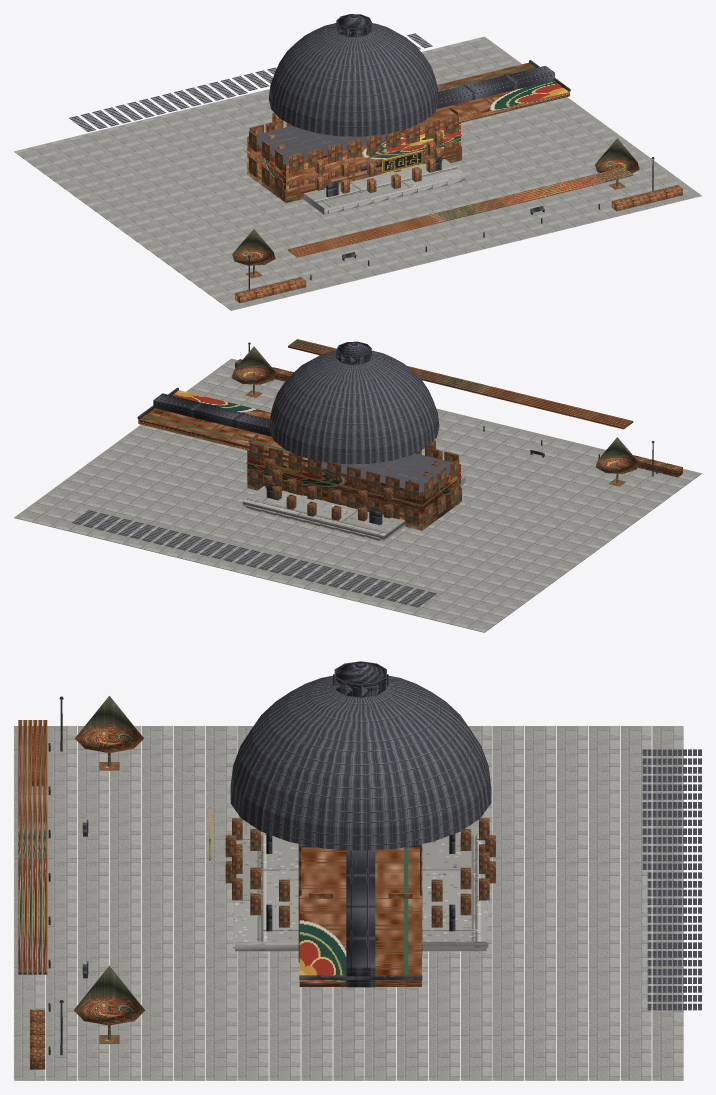
The picture shows the model from 3 angles, top to bottom: view 1: azimuth 30°, elevation 25°; view 2: azimuth 150°, elevation 25°; view 3: azimuth 270°, elevation 25°; orthographic projection. The views are drawn at different scales.
Visible parts, largest first — view 1: 11680_01_06238_001_01__plinth_ground_base, 11680_01_06238_001_03__roof_deck_structure, 11680_01_06238_001_02__mass_body_facade, 11680_01_06238_001_05__window_sash_glass, 11680_01_06238_001_06__landscape_greenery, 11680_01_06238_001_03__roof_metal_ornament, 11680_01_06238_001_05__door_hardware_iron, 11680_01_06238_001_04__sign_board; view 2: 11680_01_06238_001_01__plinth_ground_base, 11680_01_06238_001_03__roof_deck_structure, 11680_01_06238_001_02__mass_body_facade, 11680_01_06238_001_06__landscape_greenery, 11680_01_06238_001_03__roof_metal_ornament, 11680_01_06238_001_05__window_sash_glass, 11680_01_06238_001_05__door_hardware_iron; view 3: 11680_01_06238_001_01__plinth_ground_base, 11680_01_06238_001_03__roof_deck_structure, 11680_01_06238_001_02__mass_body_facade, 11680_01_06238_001_06__landscape_greenery, 11680_01_06238_001_03__roof_metal_ornament, 11680_01_06238_001_05__window_sash_glass, 11680_01_06238_001_05__door_hardware_iron.
Boxes of the visible parts, bbox=[...] form: 11680_01_06238_001_01__plinth_ground_base: bbox=[14, 36, 701, 310]; 11680_01_06238_001_03__roof_deck_structure: bbox=[69, 23, 439, 164]; 11680_01_06238_001_02__mass_body_facade: bbox=[246, 62, 633, 257]; 11680_01_06238_001_05__window_sash_glass: bbox=[265, 113, 458, 193]; 11680_01_06238_001_06__landscape_greenery: bbox=[232, 138, 682, 303]; 11680_01_06238_001_03__roof_metal_ornament: bbox=[336, 14, 570, 108]; 11680_01_06238_001_05__door_hardware_iron: bbox=[248, 156, 656, 289]; 11680_01_06238_001_04__sign_board: bbox=[383, 151, 423, 172]; 11680_01_06238_001_01__plinth_ground_base: bbox=[14, 358, 701, 632]; 11680_01_06238_001_03__roof_deck_structure: bbox=[72, 350, 460, 607]; 11680_01_06238_001_02__mass_body_facade: bbox=[138, 339, 633, 530]; 11680_01_06238_001_06__landscape_greenery: bbox=[231, 346, 682, 486]; 11680_01_06238_001_03__roof_metal_ornament: bbox=[137, 341, 371, 462]; 11680_01_06238_001_05__window_sash_glass: bbox=[265, 440, 458, 521]; 11680_01_06238_001_05__door_hardware_iron: bbox=[248, 342, 657, 524]; 11680_01_06238_001_01__plinth_ground_base: bbox=[14, 726, 683, 1080]; 11680_01_06238_001_03__roof_deck_structure: bbox=[230, 675, 701, 1010]; 11680_01_06238_001_02__mass_body_facade: bbox=[18, 720, 422, 986]; 11680_01_06238_001_06__landscape_greenery: bbox=[30, 696, 145, 1069]; 11680_01_06238_001_03__roof_metal_ornament: bbox=[299, 661, 422, 987]; 11680_01_06238_001_05__window_sash_glass: bbox=[225, 818, 495, 940]; 11680_01_06238_001_05__door_hardware_iron: bbox=[48, 696, 455, 1055].
Bounding box in the file's own units: 69.95 × 22.17 × 57.48.
7 materials, 7 textured.
